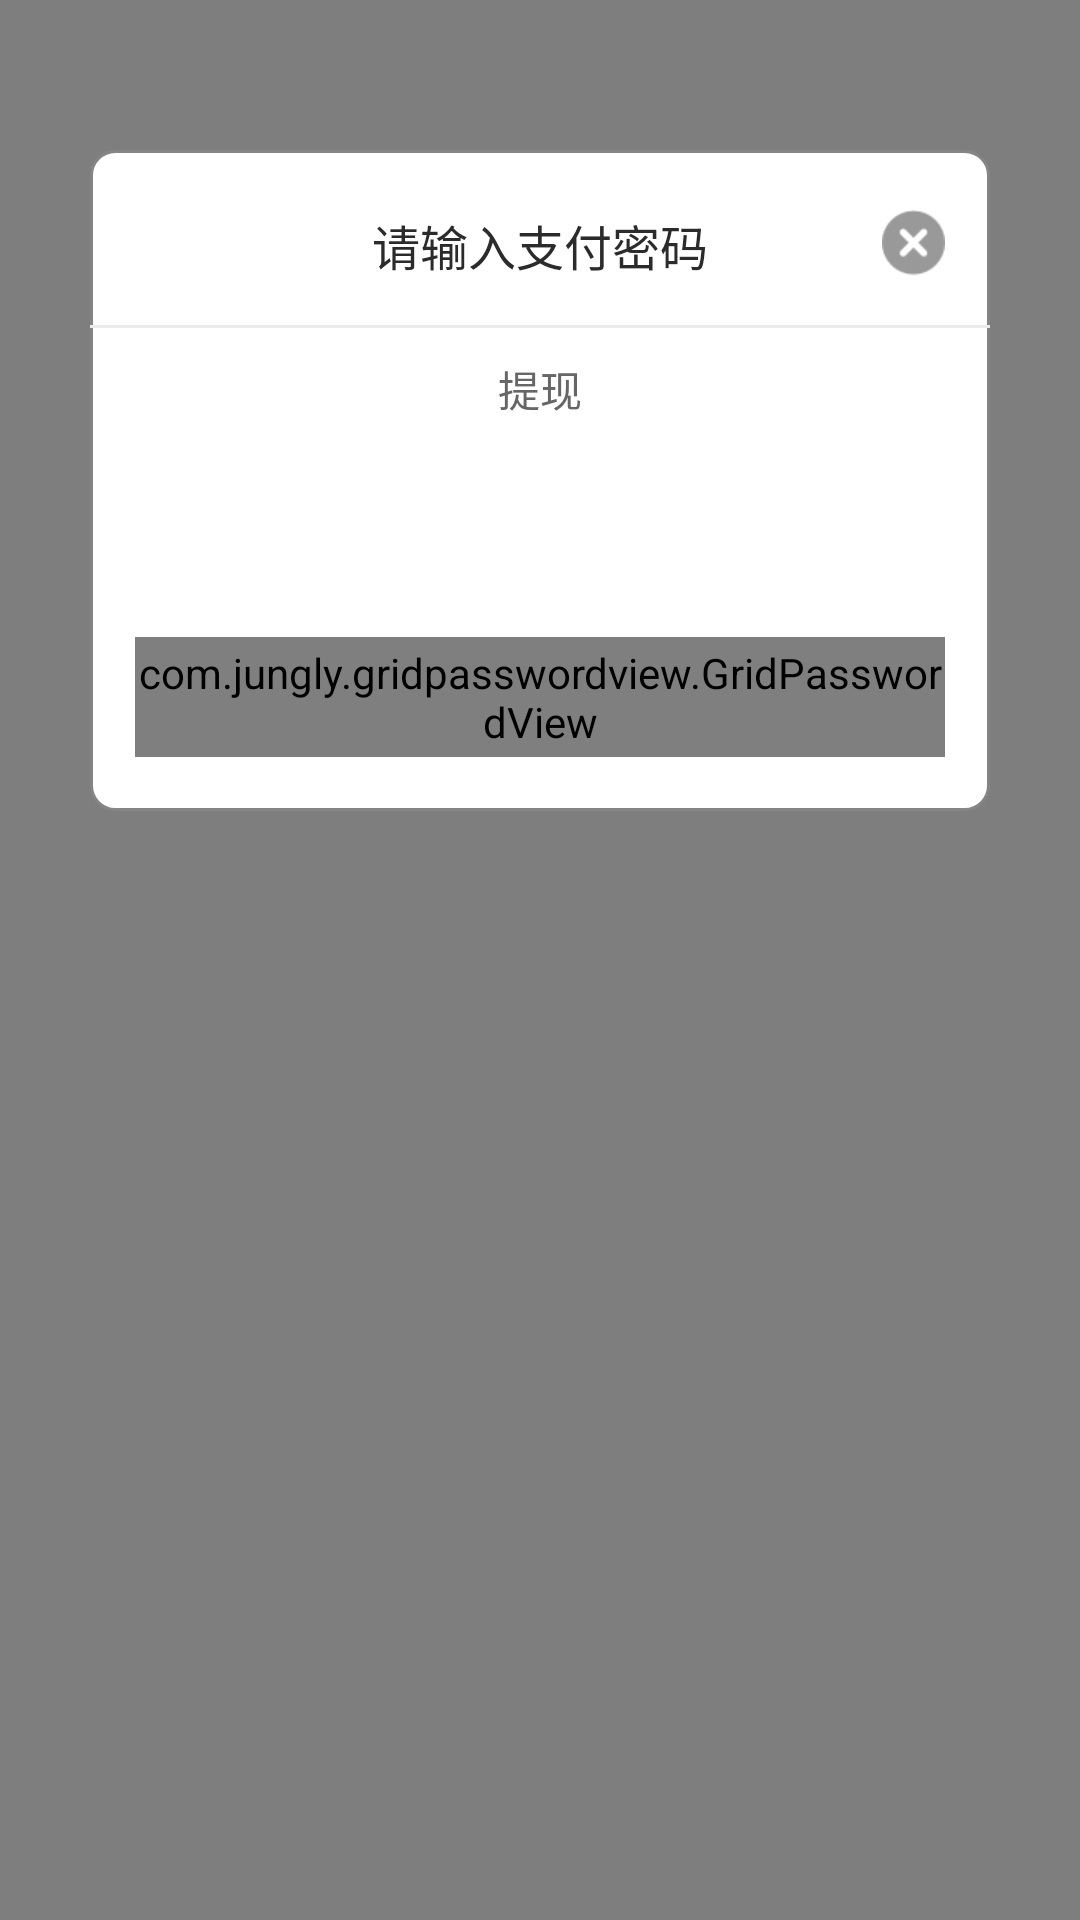

Icon bounding boxes for this 1080x1920 phone screenshot, format (x1, y1, x2, y2):
close dialog: (882, 210, 945, 275)
